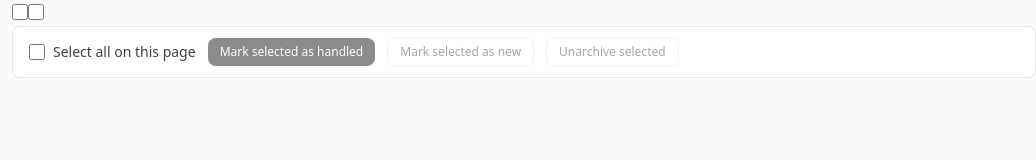
Scenario: BulkActionBar — error banner clears when selection changes then retry succeeds › removes the error banner after an unarchive action fails, selection changes, and retry succeeds
What coordinates should you click on to do the following:
click the 1st checkbox named "Select inquiry"
I would click on:
 (20, 12)
Its box is top-left (12, 4), bottom-right (28, 20).
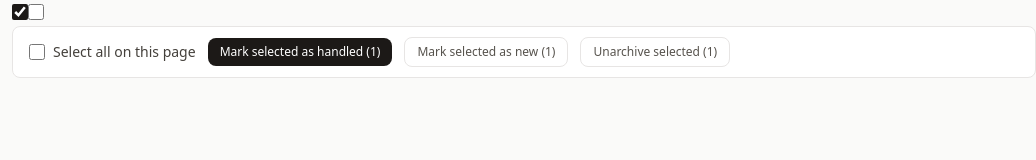
What coordinates should you click on to do the following:
click the button "Unarchive selected (1)"
I would click on:
 (655, 52)
Its box is top-left (580, 37), bottom-right (730, 67).
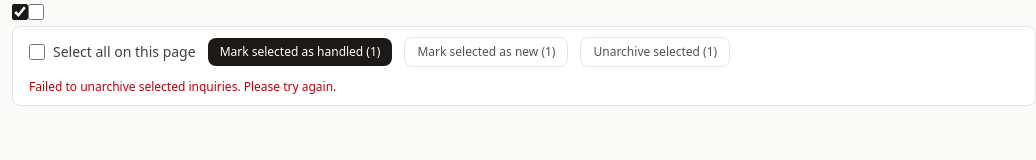
Check: the text "Failed to unarchive selected inquiries. Please try again." is shown, box top-left (29, 79), bottom-right (336, 95)
What coordinates should you click on to do the following:
click the 2nd checkbox named "Select inquiry"
I would click on:
 (36, 12)
Its box is top-left (28, 4), bottom-right (44, 20).
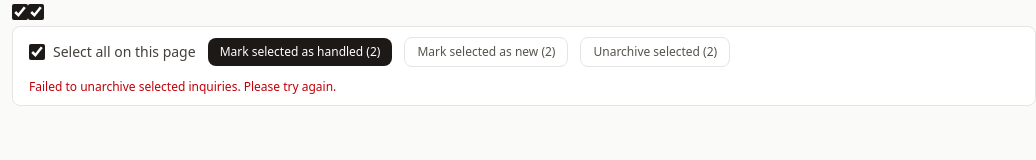
Check: the text "Failed to unarchive selected inquiries. Please try again." is shown, box top-left (29, 79), bottom-right (336, 95)
What coordinates should you click on to do the following:
click the button "Unarchive selected (2)"
I would click on:
 (655, 52)
Its box is top-left (580, 37), bottom-right (730, 67).
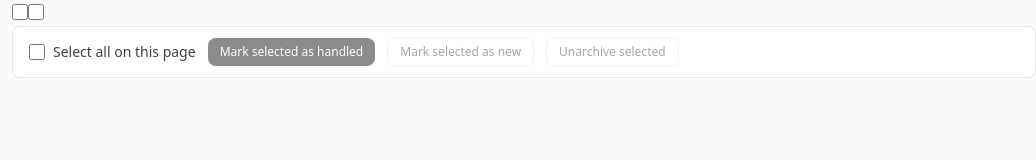
Check: the text "Failed to unarchive selected inquiries" is gone
